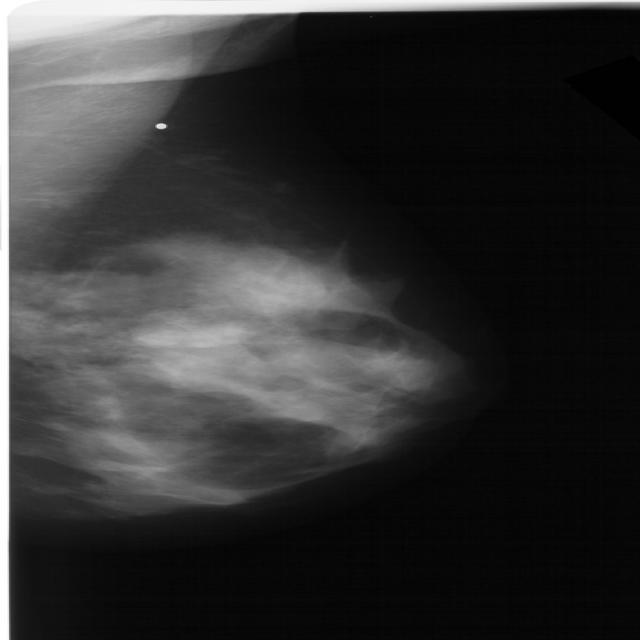tumour: (132, 308, 250, 346)
